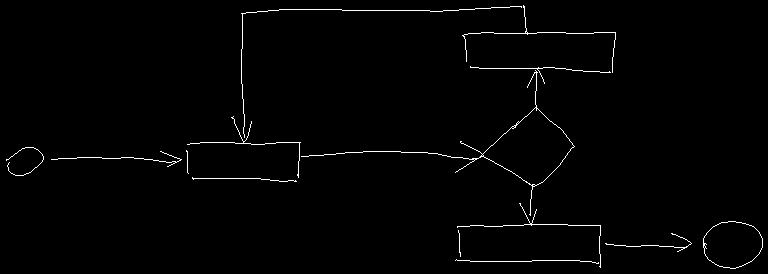arrow: (231, 5, 527, 142), (301, 141, 483, 172), (51, 151, 181, 166), (605, 233, 691, 251), (527, 67, 544, 110), (519, 184, 536, 225)
connection: (703, 221, 762, 268), (6, 147, 43, 175)
decision: (480, 107, 574, 186)
process: (455, 224, 600, 267), (462, 32, 615, 72), (186, 142, 300, 181)
